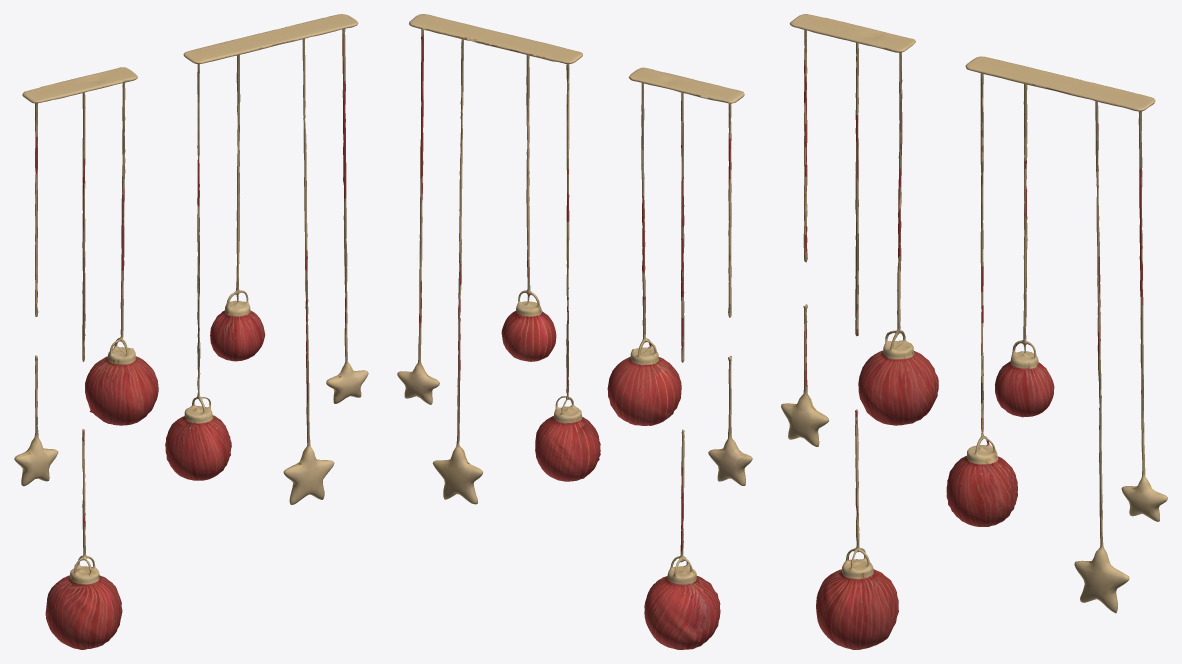
Rendered from Meshy_AI_Holiday_Ornaments_Dis_0102103749_texture.fbx.
The picture shows the model from 3 angles, left to right: view 1: azimuth 30°, elevation 25°; view 2: azimuth 150°, elevation 25°; view 3: azimuth 330°, elevation 25°; orthographic projection. The views are drawn at different scales.
Visible parts, largest first — view 1: Mesh0; view 2: Mesh0; view 3: Mesh0.
Part boxes in pixels (bbox=[...]): Mesh0: bbox=[14, 14, 368, 649]; Mesh0: bbox=[397, 14, 752, 649]; Mesh0: bbox=[781, 14, 1167, 649].
Bounding box in the file's own units: 126 × 191 × 23.86.
Materials: 1 (1 with a texture image).
